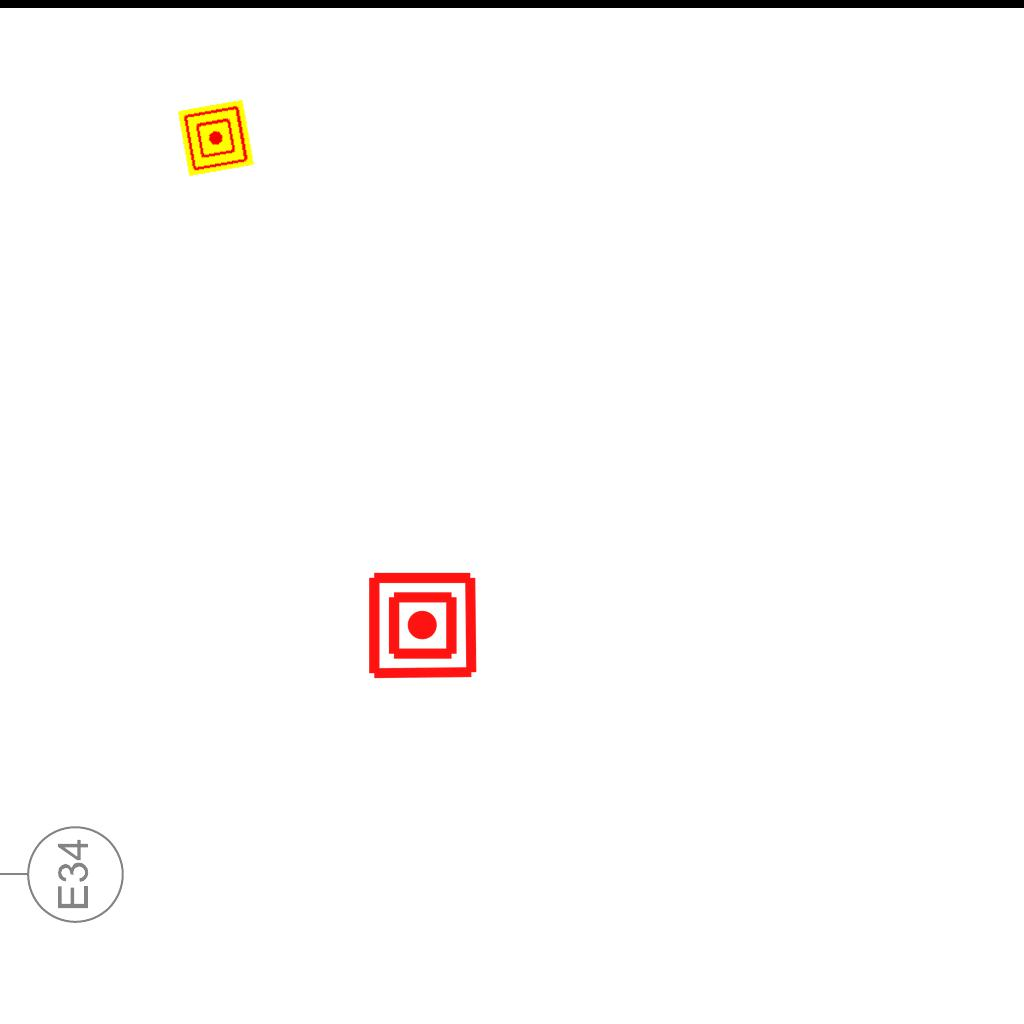NAM-Nichtautomatischer_Melder: (366, 569, 479, 682), (177, 99, 255, 177)
